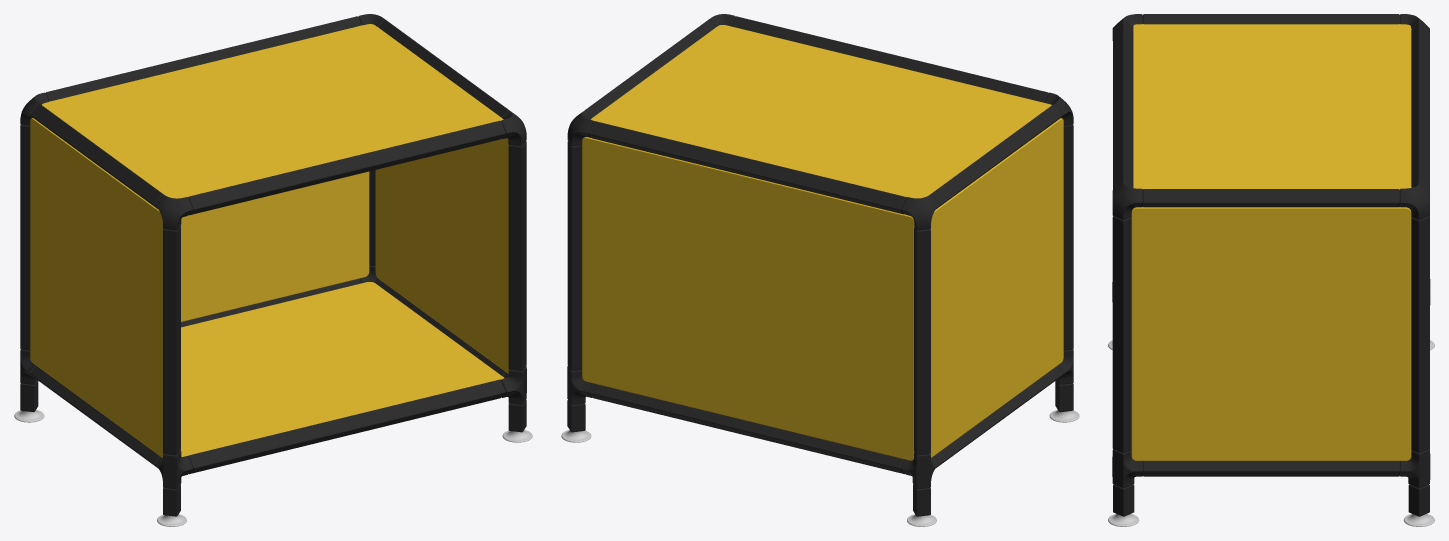
3 renders of one model, left to right at view 1: azimuth 30°, elevation 25°; view 2: azimuth 150°, elevation 25°; view 3: azimuth 270°, elevation 25°, orthographic. The views are drawn at different scales.
Parts seen in each view (by area): view 1: 479x329x329; view 2: 479x329x329; view 3: 479x329x329.
Part boxes in pixels (x1=…): 479x329x329: x1=14, y1=14, x2=532, y2=526; 479x329x329: x1=561, y1=14, x2=1079, y2=526; 479x329x329: x1=1108, y1=14, x2=1434, y2=526.
Bounding box in the file's own units: 0.5689 × 0.4683 × 0.4182.
